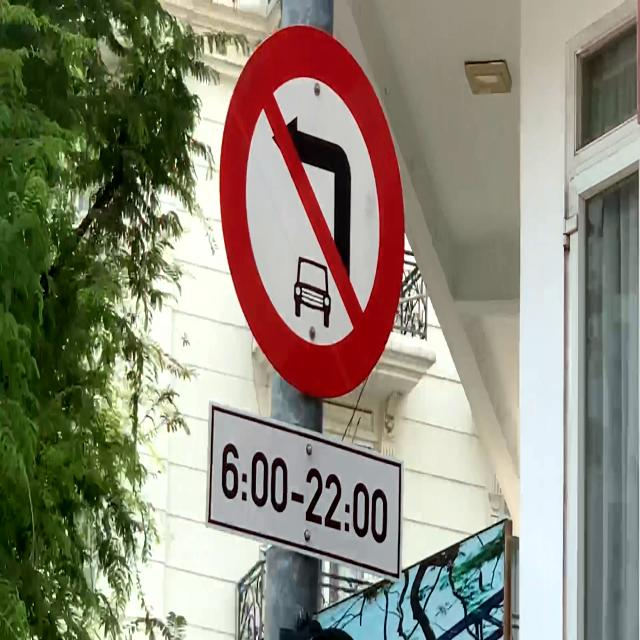P.103c: (218, 21, 406, 402)
